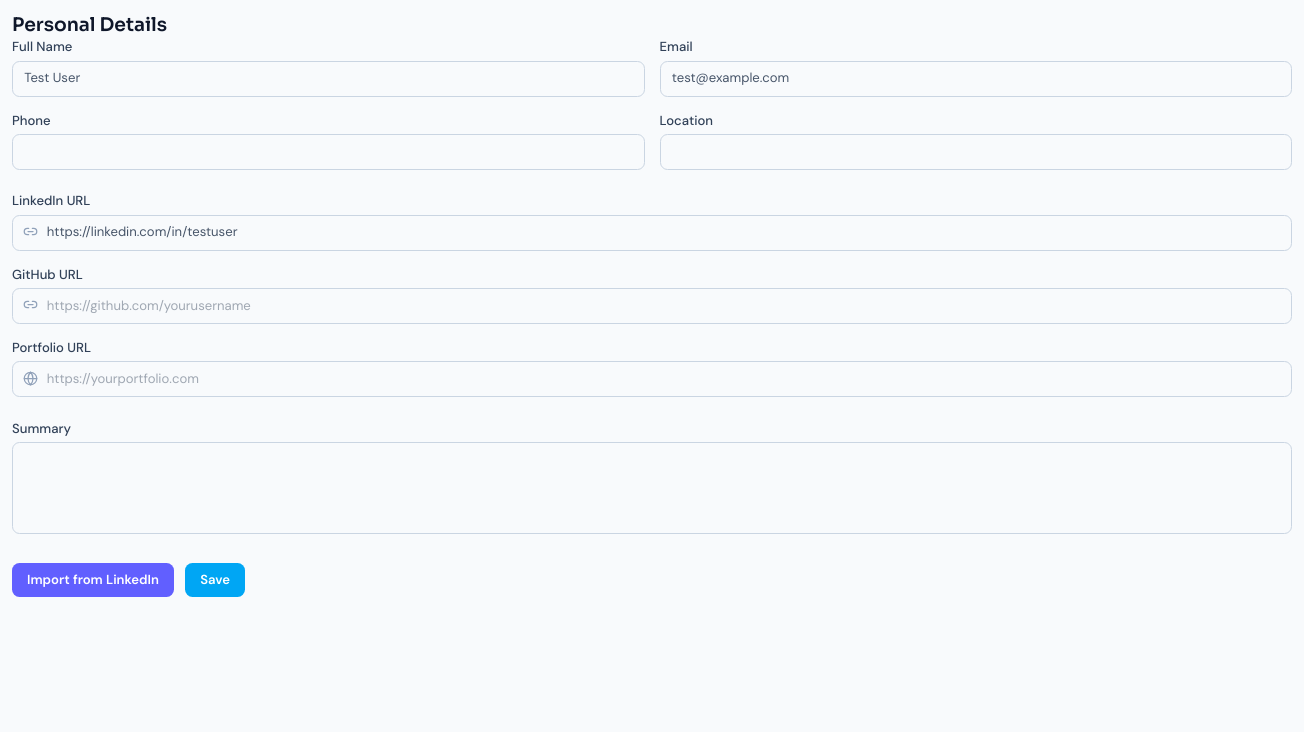
Test: PersonalForm — LinkedIn Import › API error handling › shows error message with status code on API failure
Click the button "Import from LinkedIn".
click(93, 580)  # box [12, 563, 174, 597]
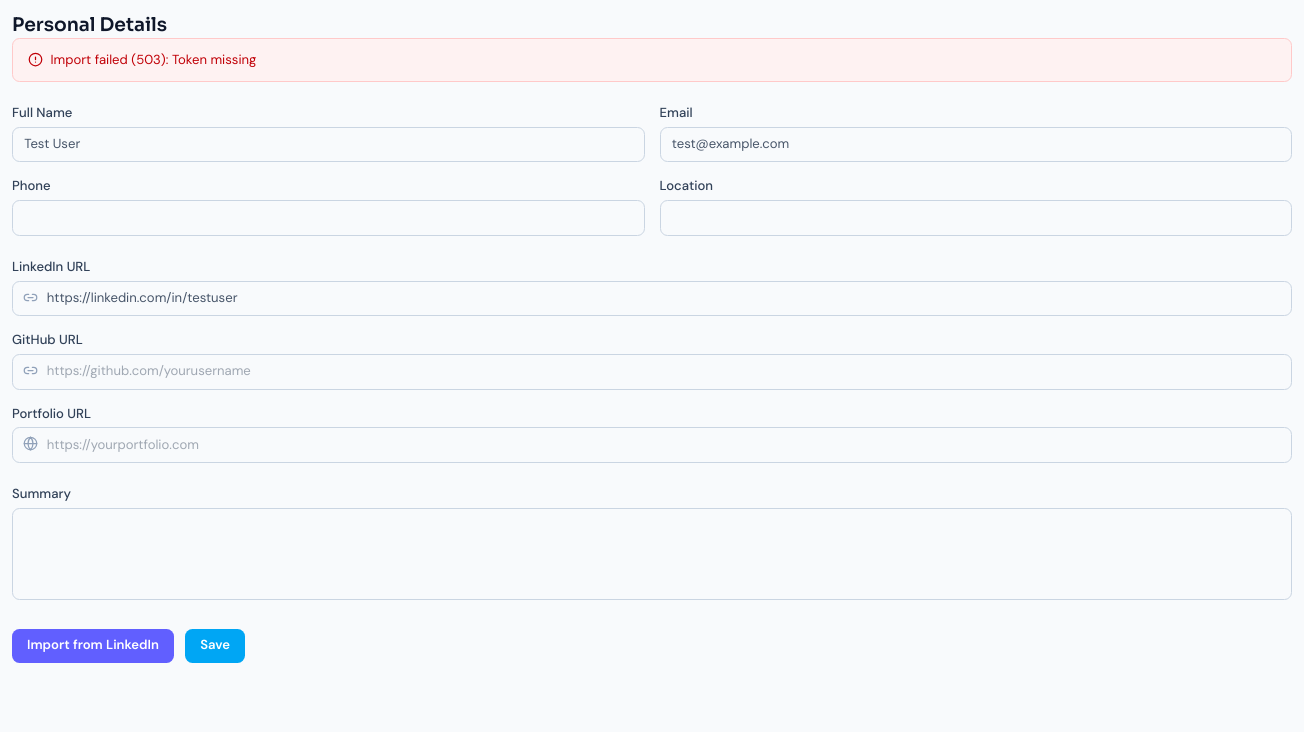
Now the text "Import failed (503): Token missing" is shown, box [12, 38, 1292, 82]
